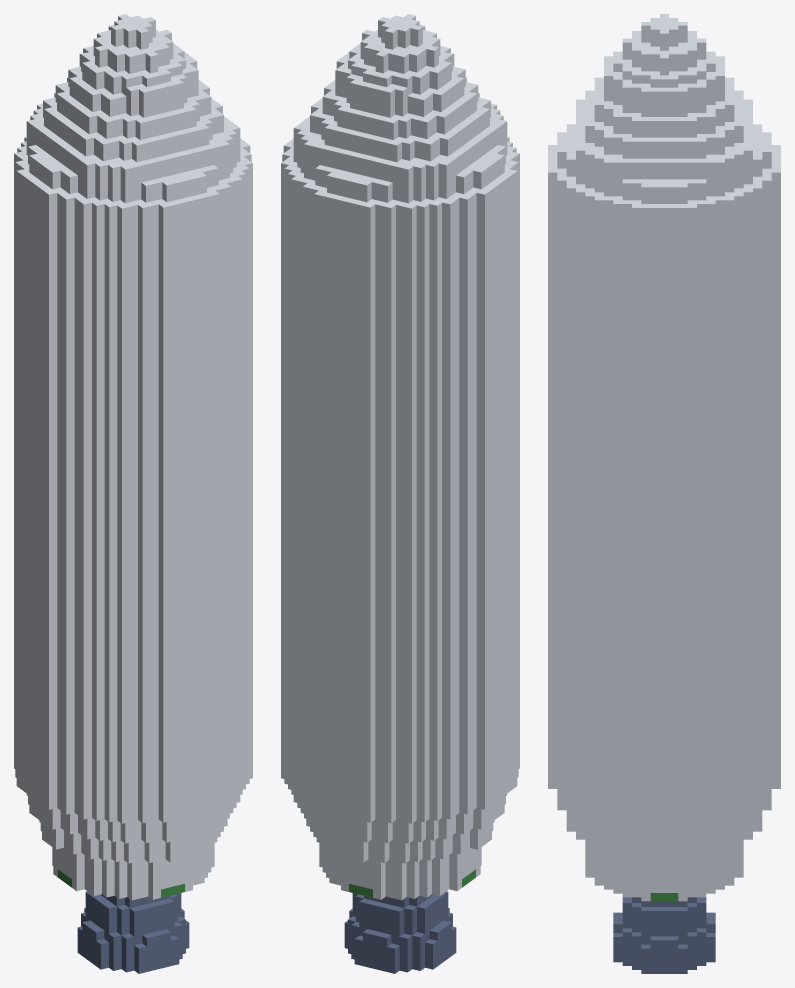
File: Sun_V_fairing_close_with_second_stage.obj
The picture shows the model from 3 angles, left to right: view 1: azimuth 30°, elevation 25°; view 2: azimuth 150°, elevation 25°; view 3: azimuth 270°, elevation 25°; orthographic projection.
Size of the model in its own units: 2.5 by 11 by 2.5.
1 material, 1 textured.
